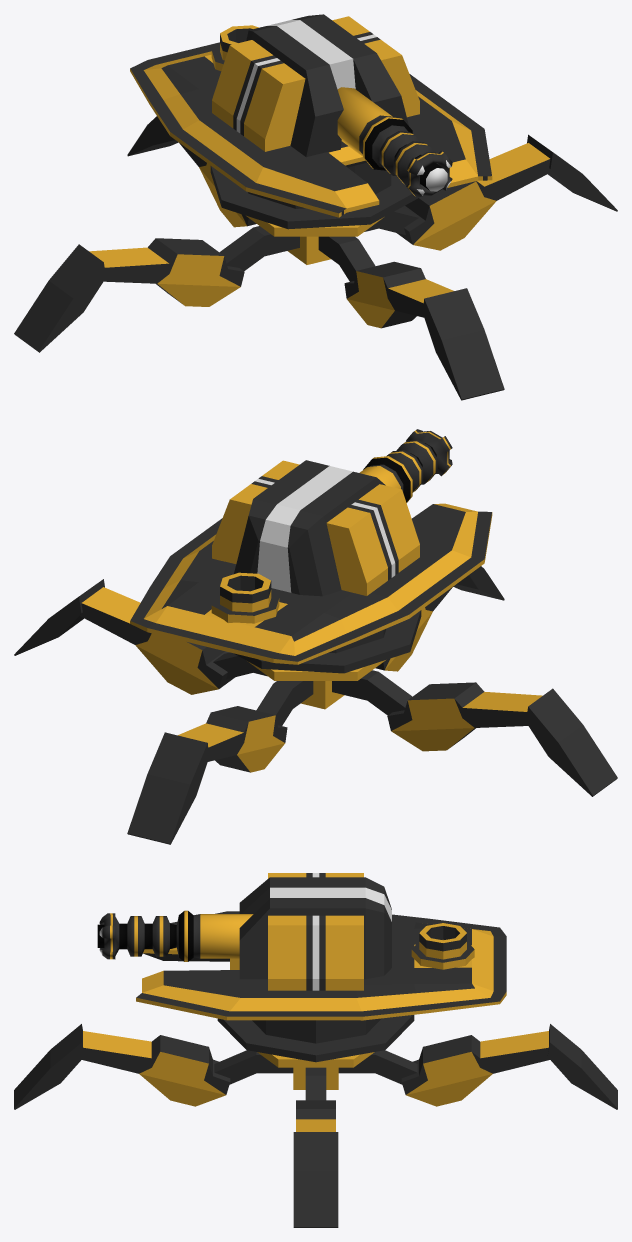
Rendered from boss.fbx.
3 renders of one model, top to bottom at view 1: azimuth 30°, elevation 25°; view 2: azimuth 150°, elevation 25°; view 3: azimuth 270°, elevation 25°, orthographic. The views are drawn at different scales.
Parts seen in each view (by area): view 1: boss-head, boss-base; view 2: boss-head, boss-base; view 3: boss-head, boss-base.
Part boxes in pixels (x1,y1,x2,y2): boss-head: [130, 14, 492, 229]; boss-base: [14, 116, 617, 400]; boss-head: [130, 429, 492, 673]; boss-base: [14, 566, 617, 844]; boss-head: [97, 873, 506, 1062]; boss-base: [14, 1024, 617, 1227].
Size of the model in its own units: 400 by 152 by 400.
